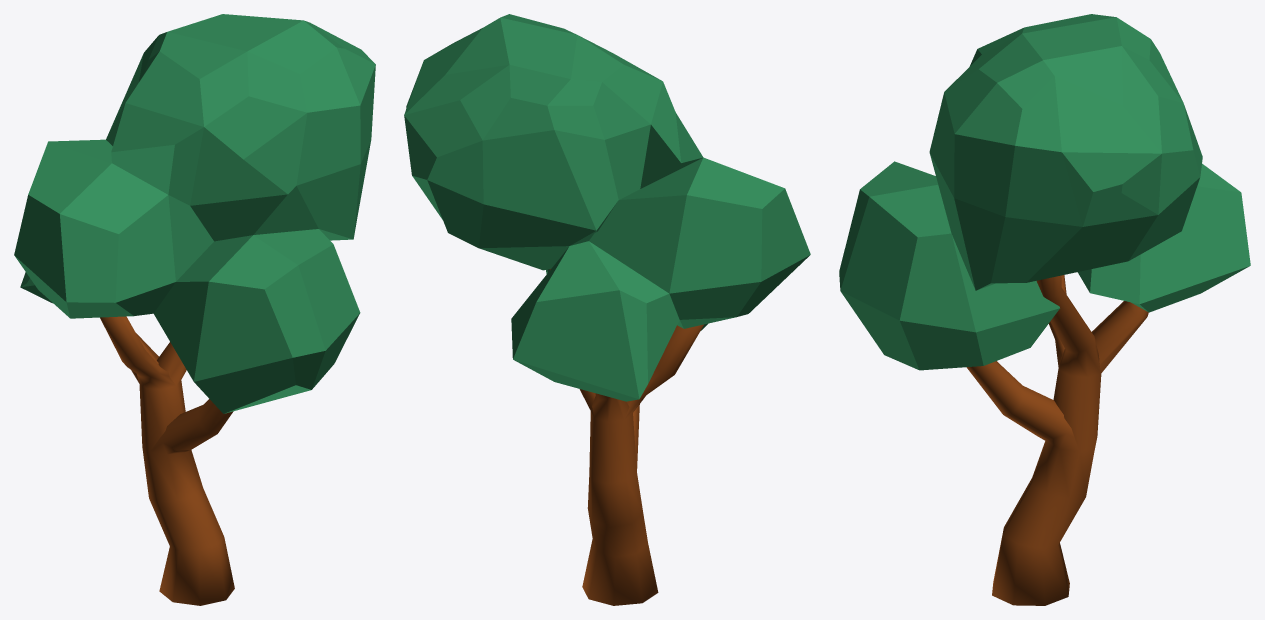
Rendered from deciduous-tree-2.glb.
The picture shows the model from 3 angles, left to right: view 1: azimuth 30°, elevation 25°; view 2: azimuth 150°, elevation 25°; view 3: azimuth 270°, elevation 25°; orthographic projection. The views are drawn at different scales.
Parts seen in each view (by area): view 1: deciduous-tree-2; view 2: deciduous-tree-2; view 3: deciduous-tree-2.
Boxes of the visible parts, <box> form: deciduous-tree-2: <box>14,14,375,605</box>; deciduous-tree-2: <box>404,14,810,605</box>; deciduous-tree-2: <box>839,14,1250,605</box>.
Size of the model in its own units: 5.26 by 7.91 by 5.01.
